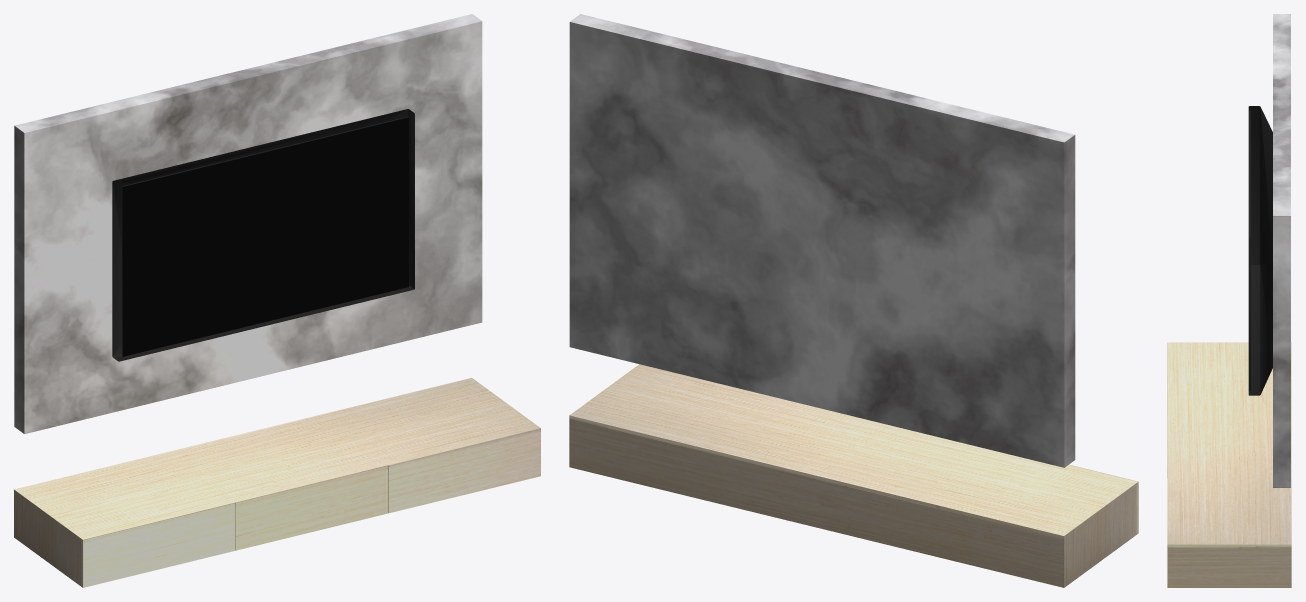
File: Tv Unite_4.fbx
3 views of the same model, side by side, from view 1: azimuth 30°, elevation 25°; view 2: azimuth 150°, elevation 25°; view 3: azimuth 270°, elevation 25° (orthographic). The views are drawn at different scales.
Visible parts, largest first — view 1: Cube, tv_32in; view 2: Cube; view 3: Cube, tv_32in.
Part boxes in pixels (box(x1,y1,x2,y2)): Cube: box(14, 14, 540, 587); tv_32in: box(112, 109, 414, 361); Cube: box(569, 14, 1138, 587); Cube: box(1167, 14, 1291, 587); tv_32in: box(1248, 106, 1272, 395).
Bounding box in the file's own units: 200 × 172 × 52.18.
Materials: 3 (1 with a texture image).
